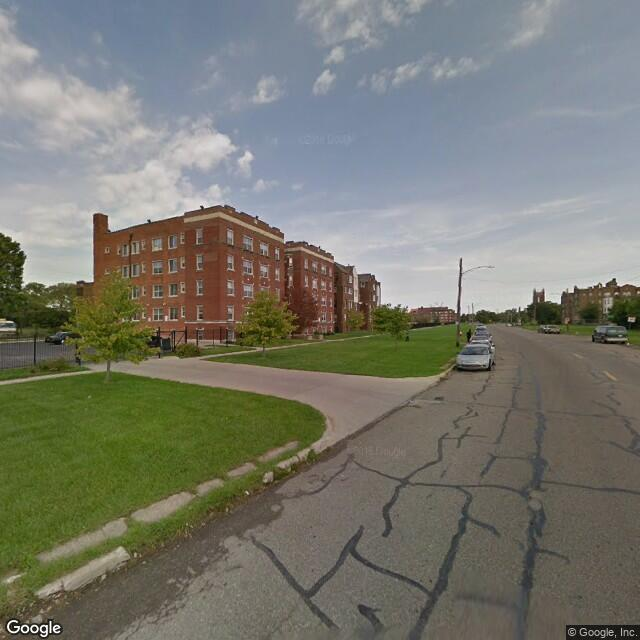litter: (244, 490, 251, 496), (87, 392, 92, 399)
